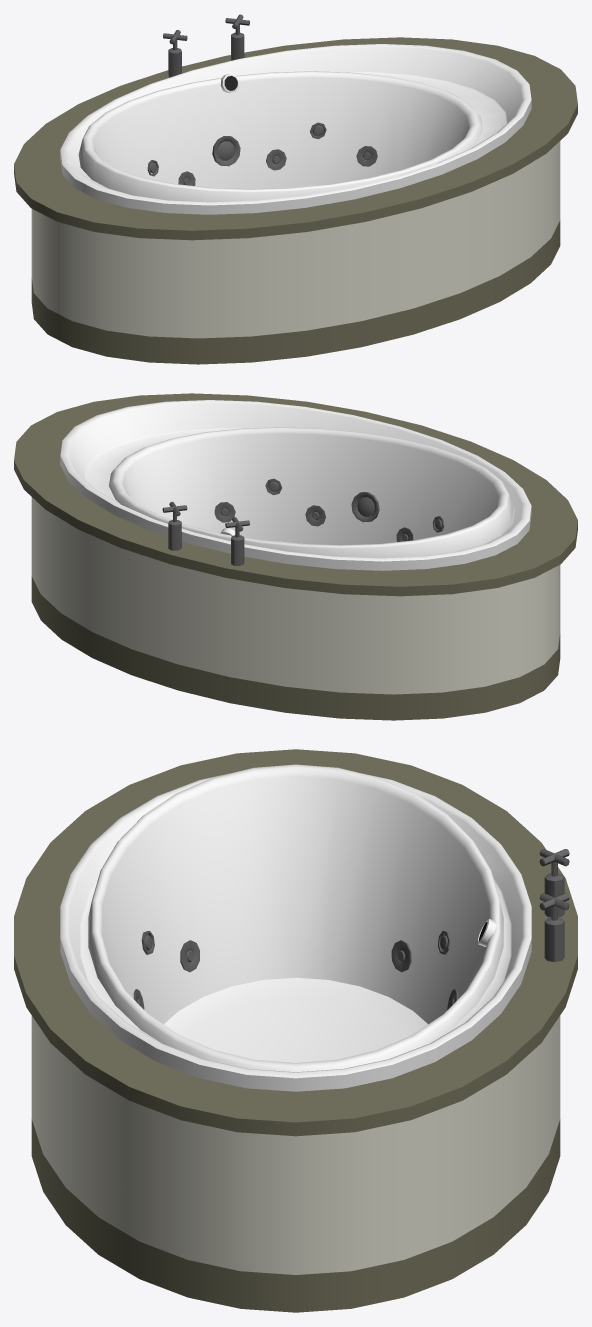
The model's file is KOHLER1110V0.FBX.
The picture shows the model from 3 angles, top to bottom: view 1: azimuth 30°, elevation 25°; view 2: azimuth 150°, elevation 25°; view 3: azimuth 270°, elevation 25°; orthographic projection. The views are drawn at different scales.
Visible parts, largest first — view 1: KOHLER1110V0; view 2: KOHLER1110V0; view 3: KOHLER1110V0.
Part boxes in pixels (x1,y1,x2,y2): KOHLER1110V0: (14, 14, 577, 364); KOHLER1110V0: (14, 393, 577, 720); KOHLER1110V0: (14, 749, 577, 1312).
Size of the model in its own units: 219 by 140 by 71.59.
